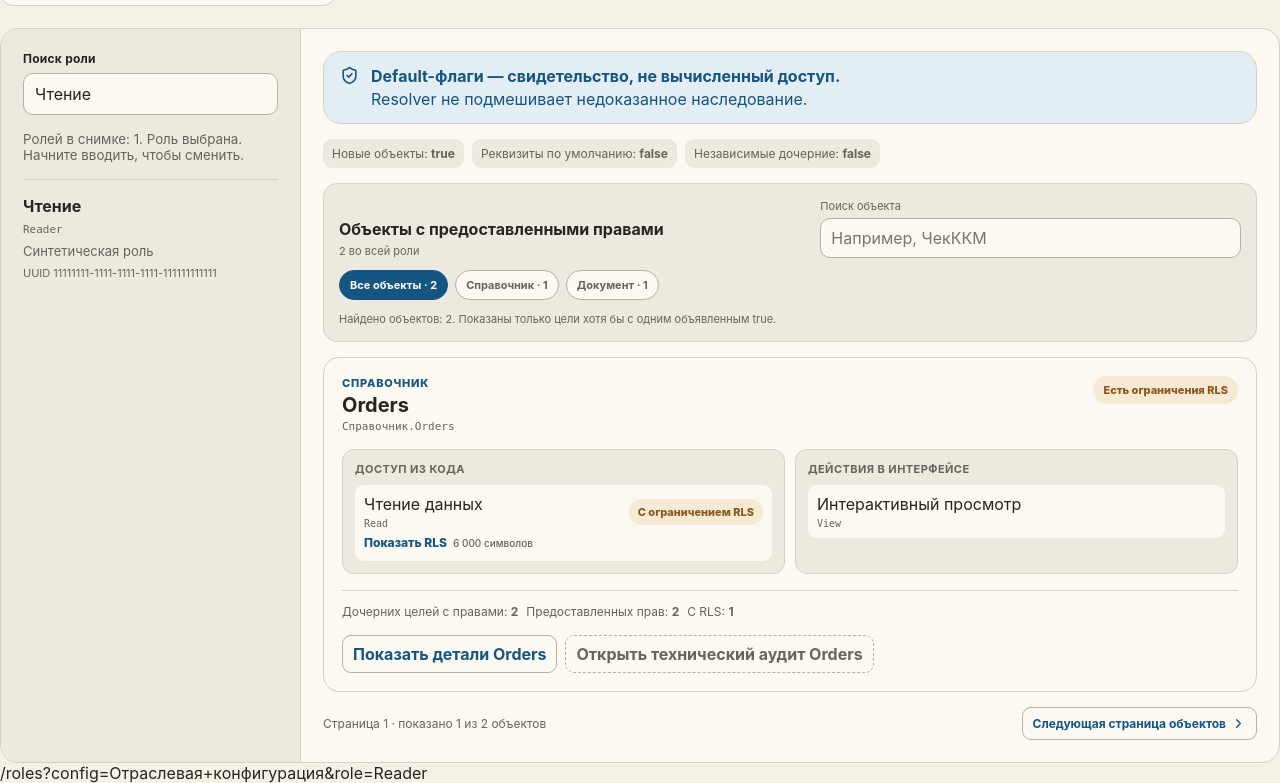
Scenario: открывает дочерние права и audit вкладками одного модального окна
This screenshot has width=1280, height=783.
(page scrolled)
Expected: the heading "Orders" is shown, [342, 393, 409, 417]
Expected: the text "Code" is not shown
Click the button "Показать детали Orders" at (450, 654), box [342, 635, 558, 673]
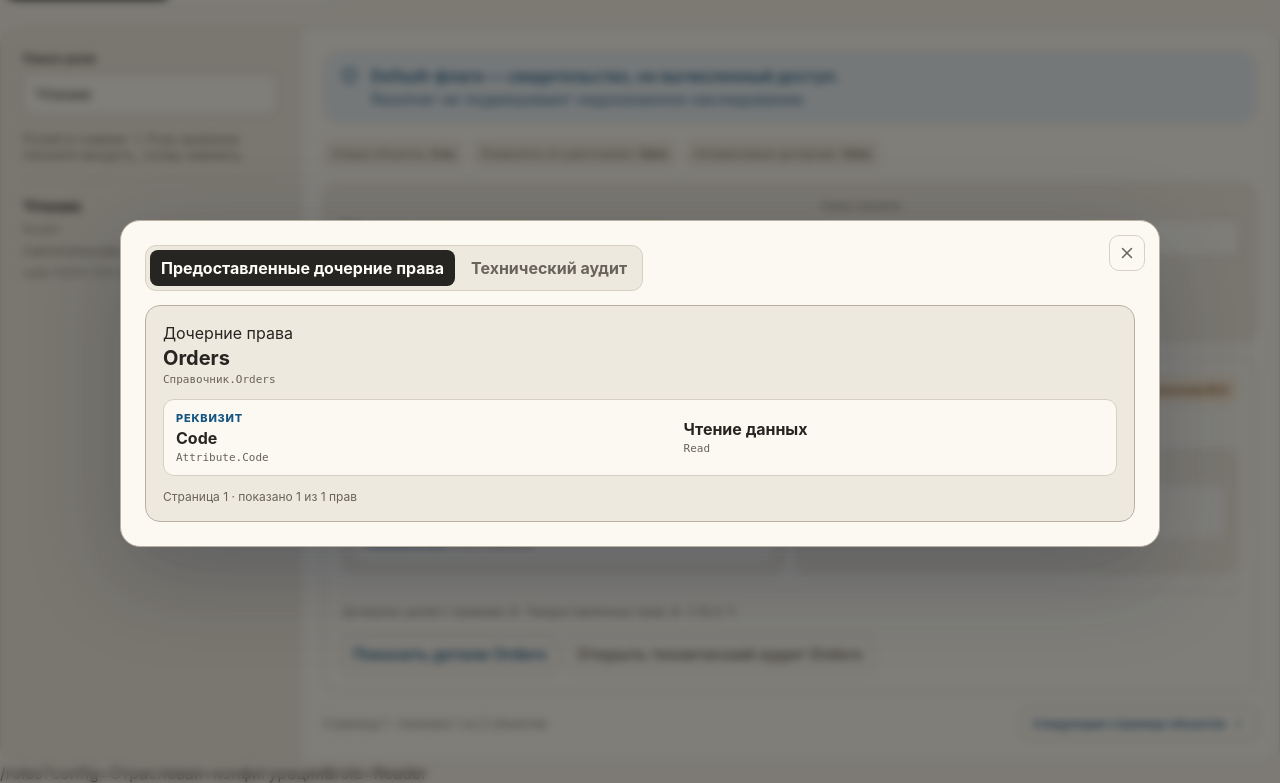
Now the dialog named "Права объекта Orders" is shown, box [120, 220, 1160, 546]
Now the text "Code" is shown, box [176, 428, 217, 448]
Now the text "Реквизит" is shown, box [176, 410, 243, 424]
Click the tab "Технический аудит" at (549, 268), box [460, 250, 638, 286]
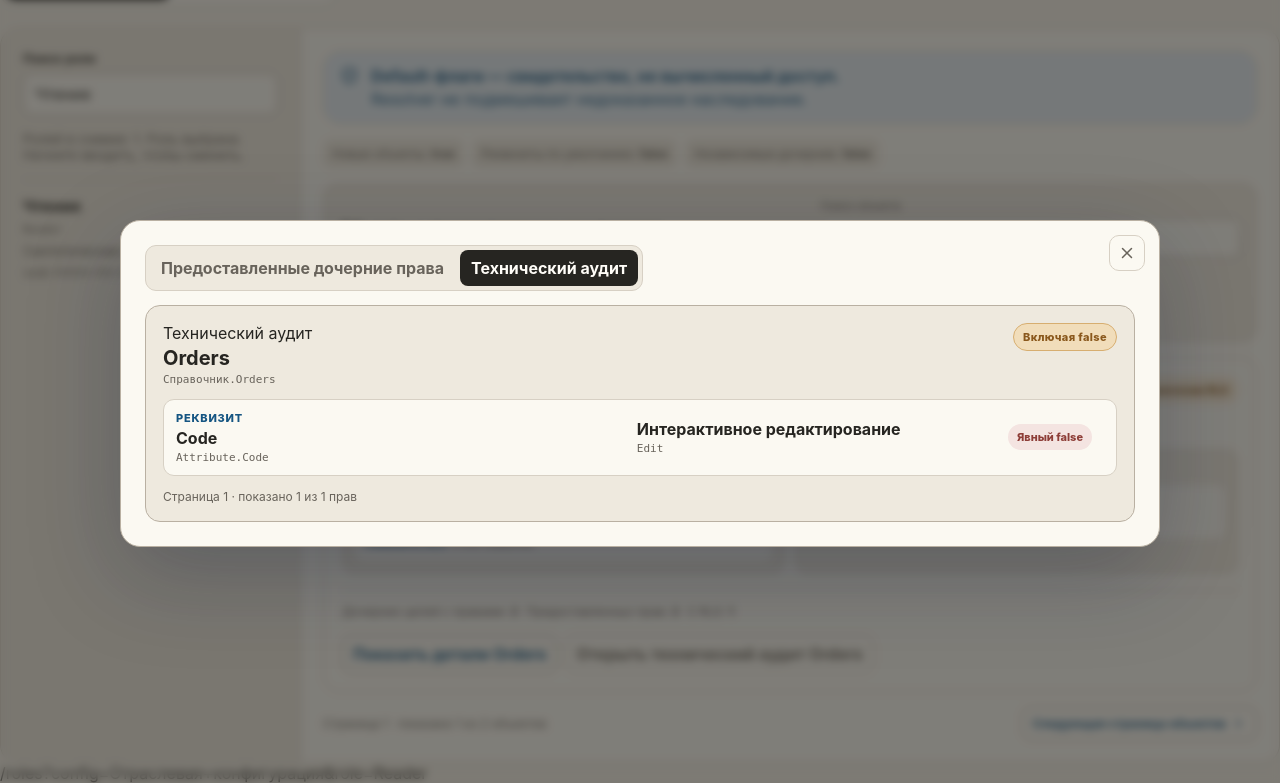
Now the text "Явный false" is shown, box [1008, 424, 1092, 450]
Press Escape
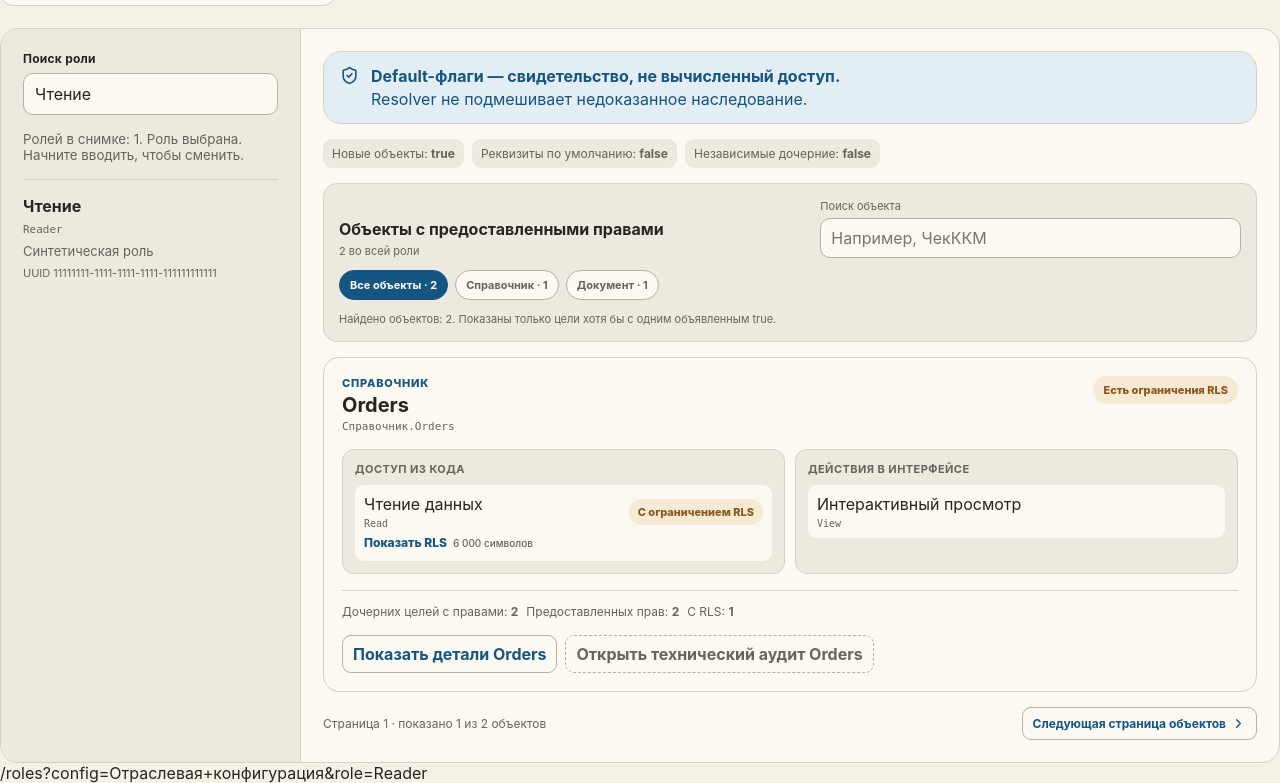
Now the dialog is gone
